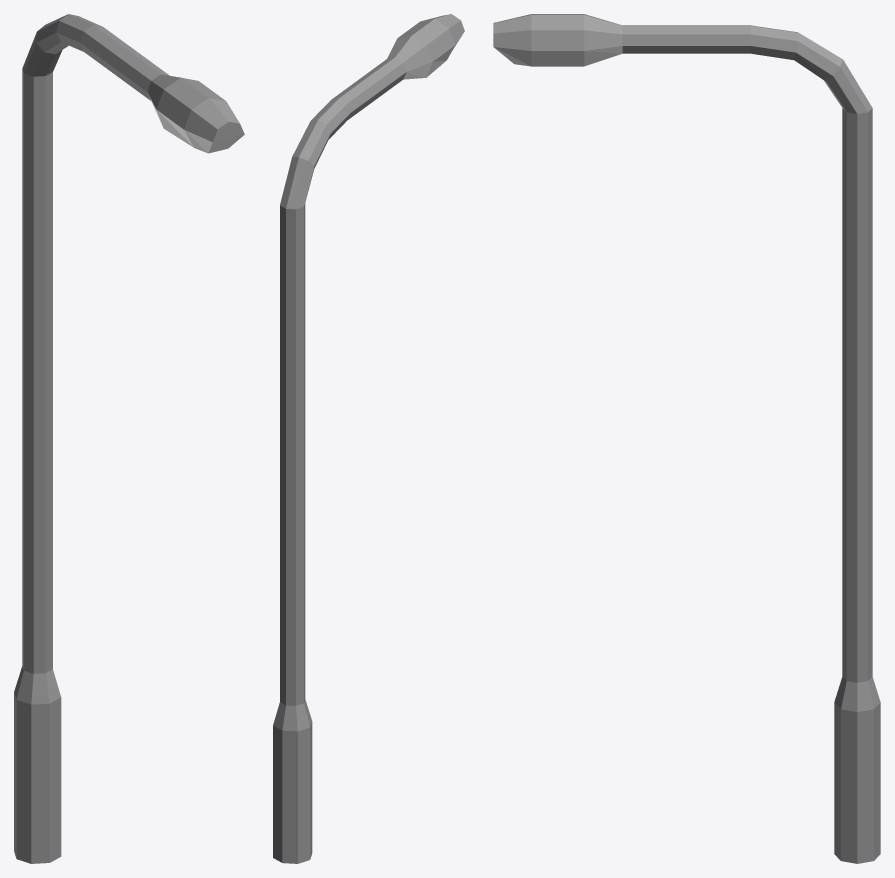
File: Street lamp_long.FBX
3 views of the same model, side by side, from view 1: azimuth 30°, elevation 25°; view 2: azimuth 150°, elevation 25°; view 3: azimuth 270°, elevation 25° (orthographic). The views are drawn at different scales.
Visible parts, largest first — view 1: street lamp; view 2: street lamp; view 3: street lamp.
Boxes of the visible parts, left/top/right/bottom form: street lamp: left=14, top=14, right=244, bottom=863; street lamp: left=273, top=14, right=464, bottom=863; street lamp: left=493, top=14, right=880, bottom=863.
Bounding box in the file's own units: 14.2 × 242 × 101.
